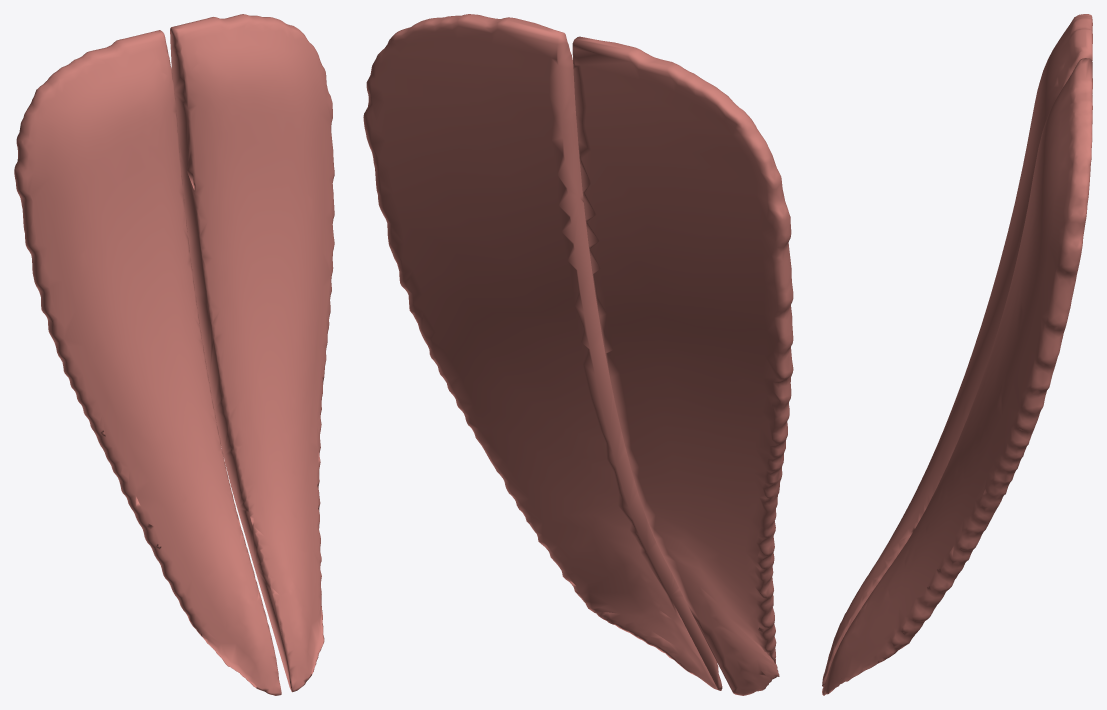
Rendered from procerus_lod1.glb.
The picture shows the model from 3 angles, left to right: view 1: azimuth 30°, elevation 25°; view 2: azimuth 150°, elevation 25°; view 3: azimuth 270°, elevation 25°; orthographic projection. The views are drawn at different scales.
Visible parts, largest first — view 1: procerus_R_lod1, procerus_L_lod1; view 2: procerus_L_lod1, procerus_R_lod1; view 3: procerus_L_lod1, procerus_R_lod1.
Boxes of the visible parts, <box> form: procerus_R_lod1: <box>14,30,281,695</box>; procerus_L_lod1: <box>170,14,334,692</box>; procerus_L_lod1: <box>363,14,722,690</box>; procerus_R_lod1: <box>572,36,793,695</box>; procerus_L_lod1: <box>822,58,1092,695</box>; procerus_R_lod1: <box>822,14,1092,686</box>.
Bounding box in the file's own units: 0.00897 × 0.0158 × 0.00609.
